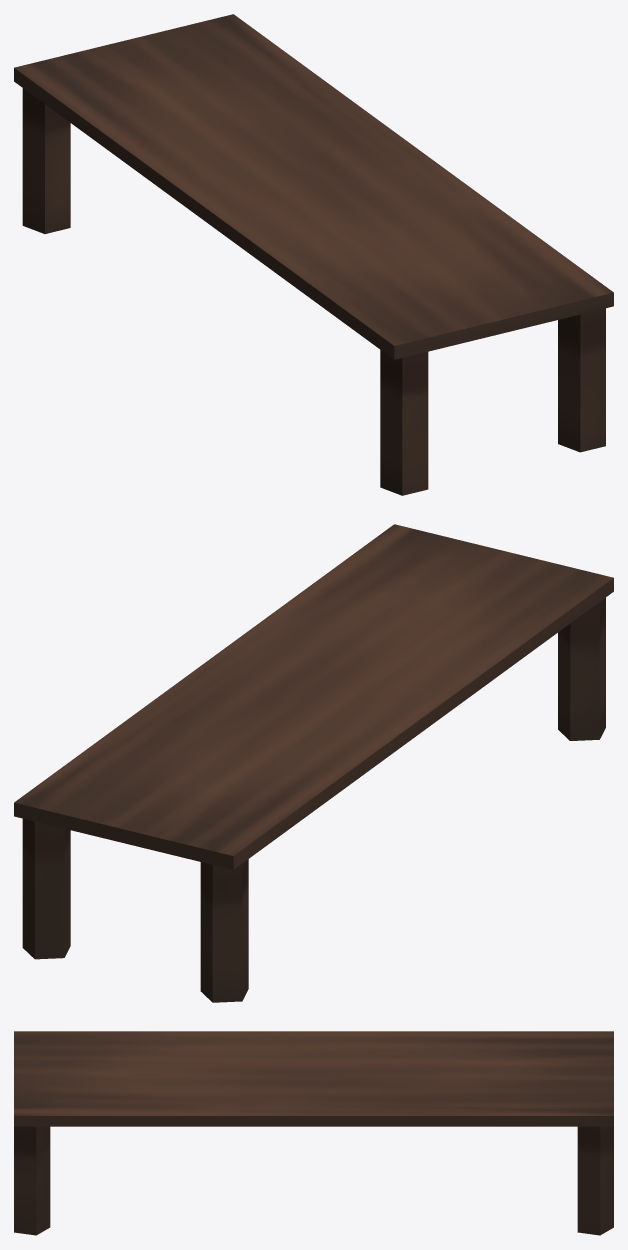
The model's file is sofbord.fbx.
The picture shows the model from 3 angles, top to bottom: view 1: azimuth 30°, elevation 25°; view 2: azimuth 150°, elevation 25°; view 3: azimuth 270°, elevation 25°; orthographic projection. The views are drawn at different scales.
Visible parts, largest first — view 1: sofbord; view 2: sofbord; view 3: sofbord.
Part boxes in pixels (x1=…): sofbord: x1=14, y1=14, x2=613, y2=495; sofbord: x1=14, y1=524, x2=613, y2=1002; sofbord: x1=14, y1=1031, x2=613, y2=1235.
Size of the model in its own units: 50 by 33 by 150.
Materials: 1 (1 with a texture image).
